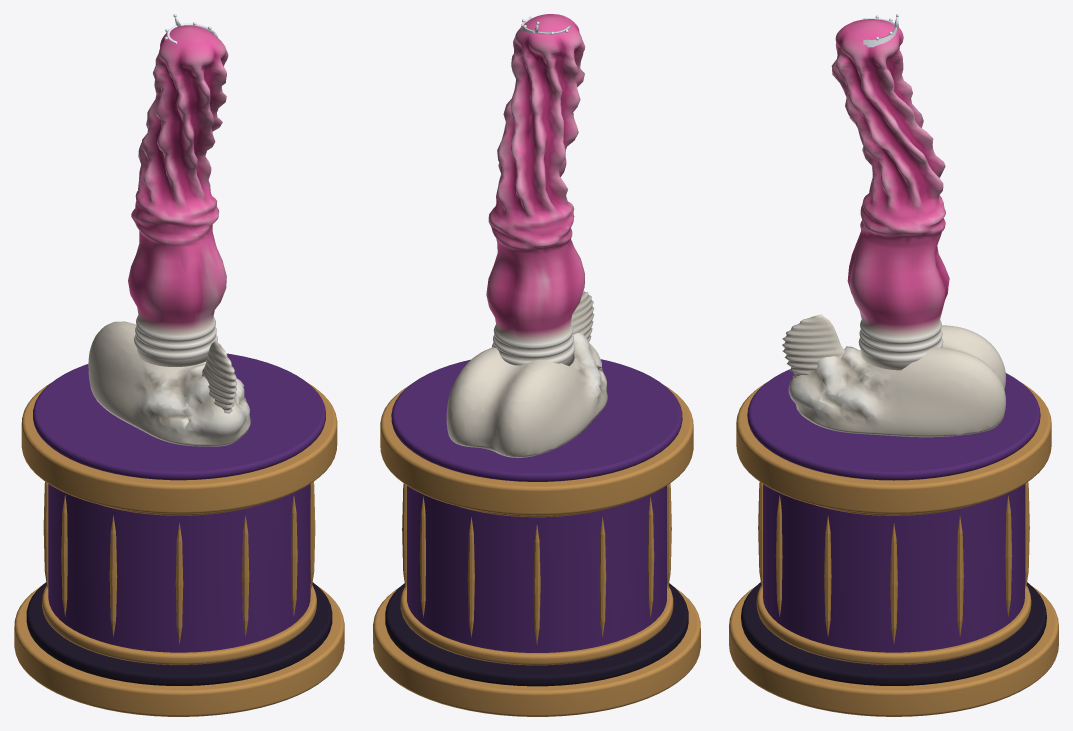
Rendered from queen.glb.
3 renders of one model, left to right at view 1: azimuth 30°, elevation 25°; view 2: azimuth 150°, elevation 25°; view 3: azimuth 270°, elevation 25°, orthographic.
Visible parts, largest first — view 1: casino_pedestal, queen_original_queen; view 2: casino_pedestal, queen_original_queen; view 3: casino_pedestal, queen_original_queen.
Part boxes in pixels (box(x1,y1,x2,y2)): casino_pedestal: box(14, 353, 344, 716); queen_original_queen: box(88, 25, 250, 446); casino_pedestal: box(373, 359, 700, 716); queen_original_queen: box(446, 14, 607, 457); casino_pedestal: box(729, 369, 1058, 716); queen_original_queen: box(782, 19, 1005, 437).
Size of the model in its own units: 0.68 by 1.44 by 0.68.
